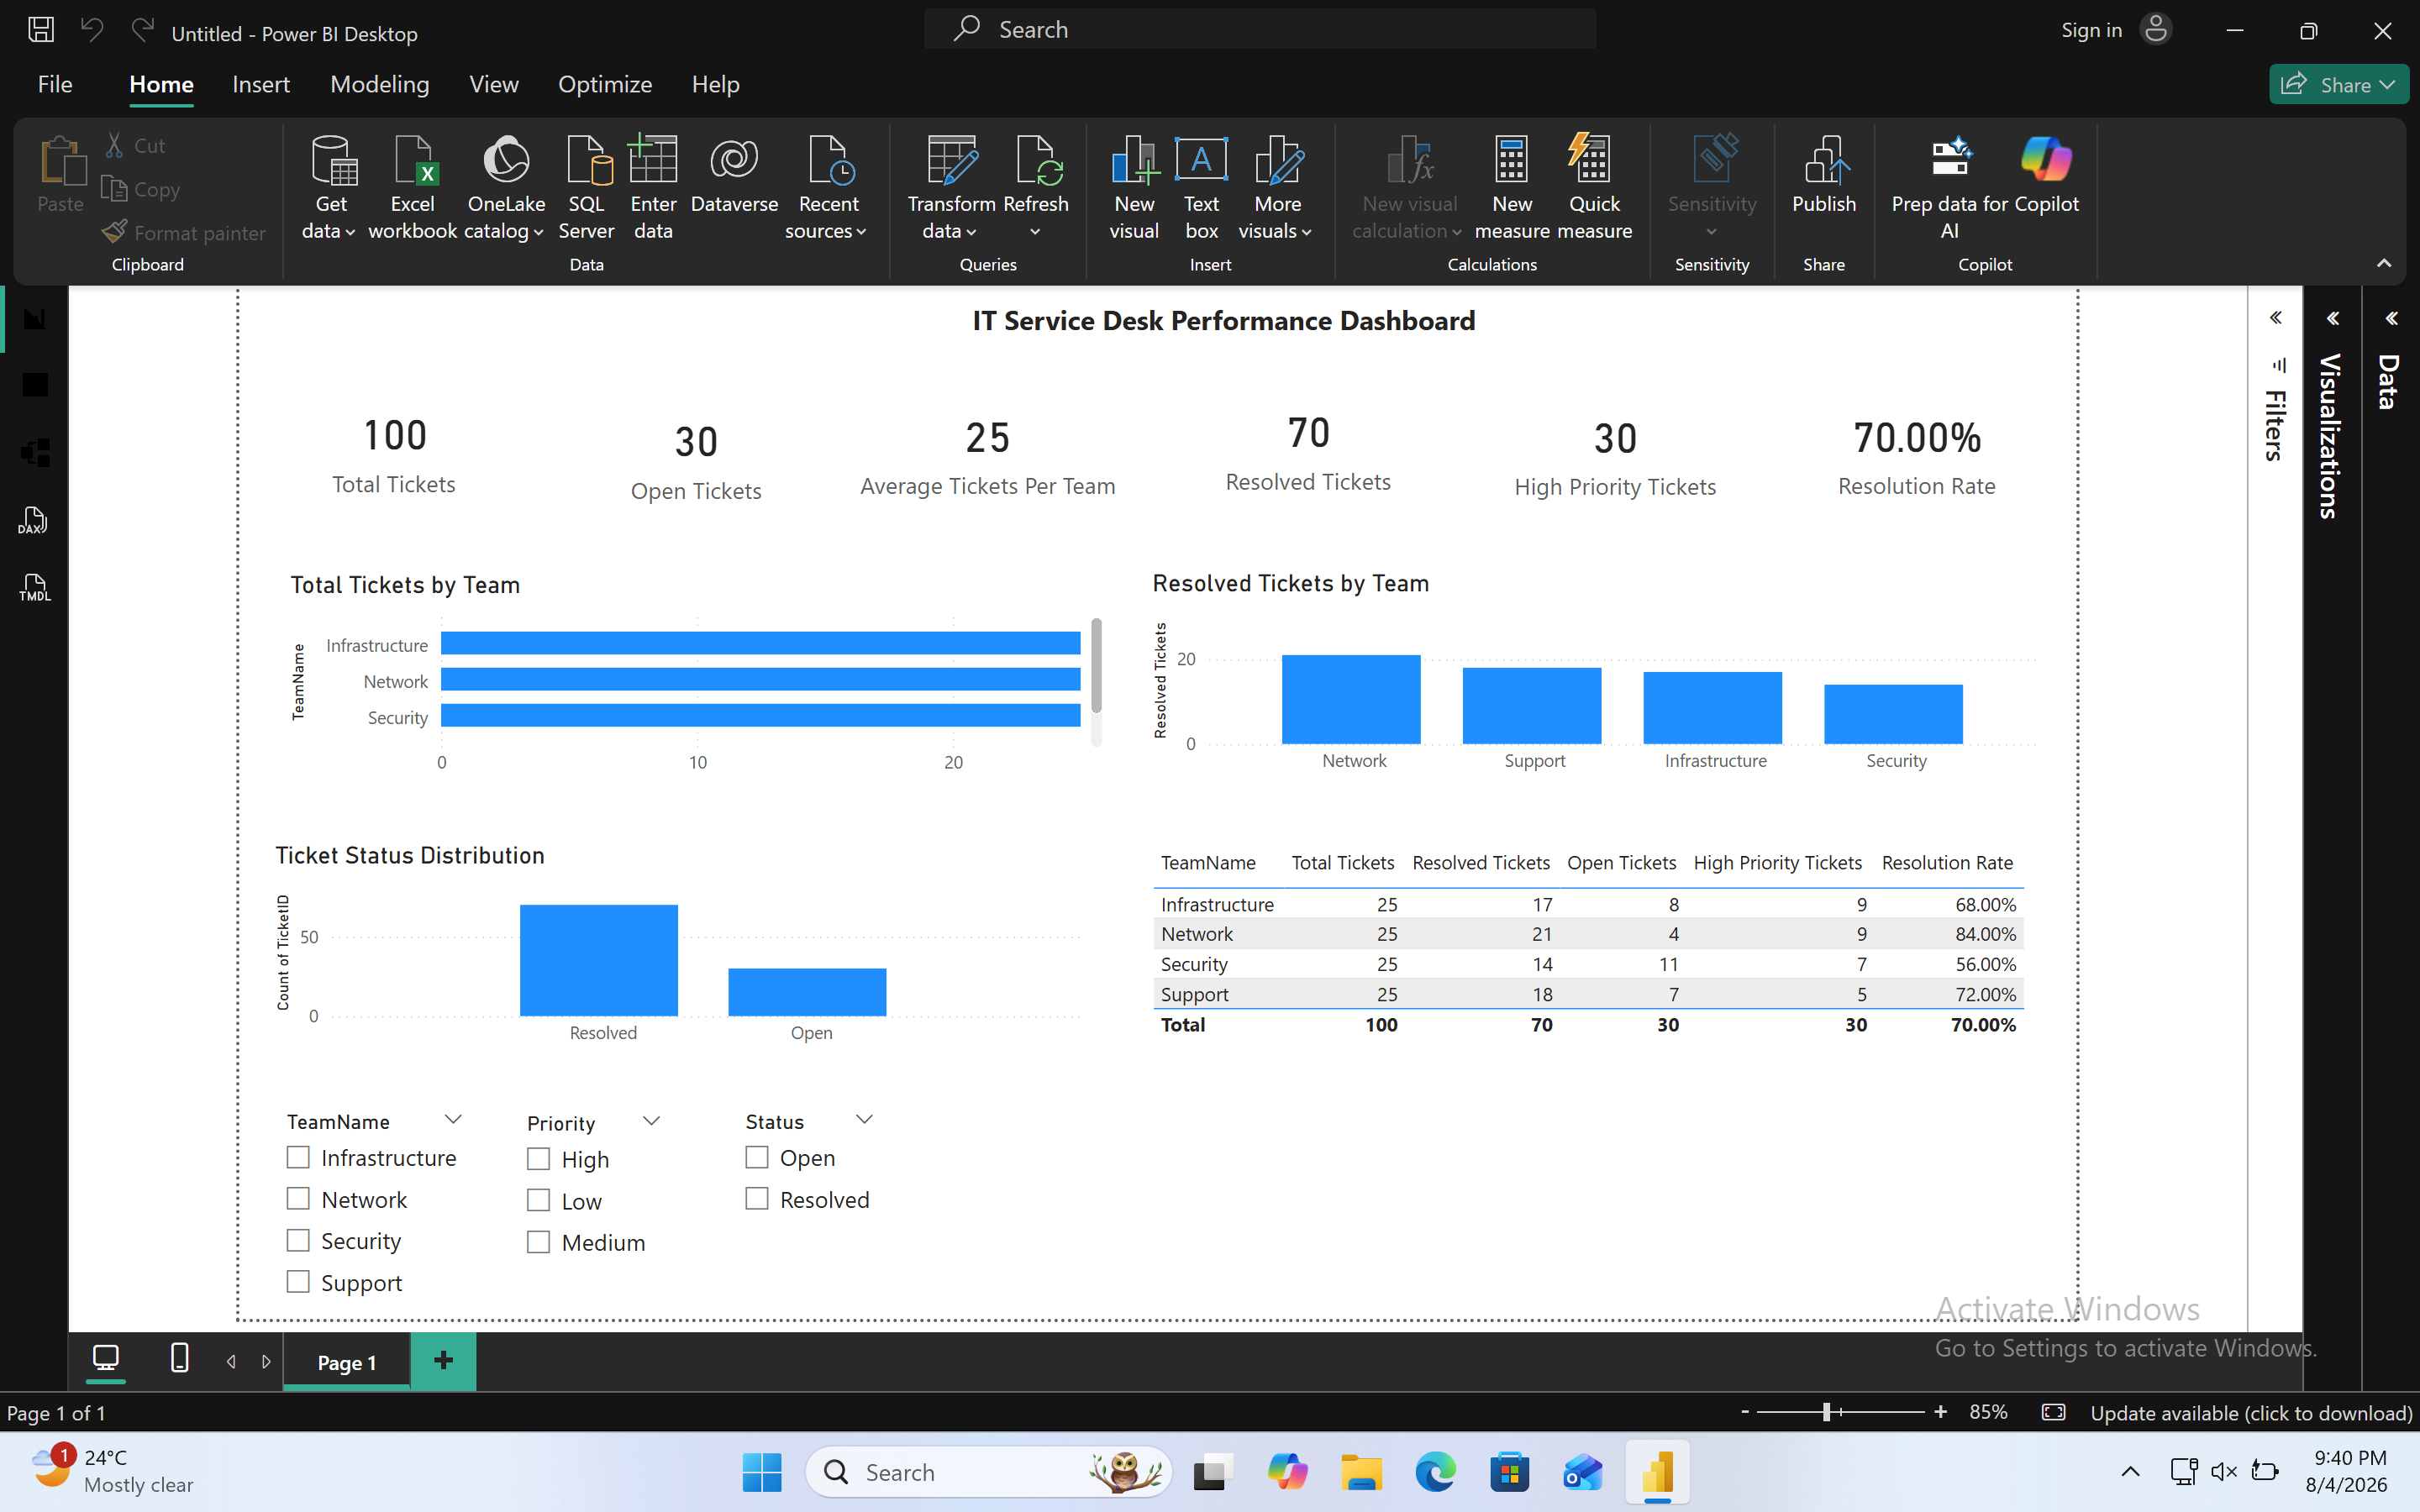

What the dashboard file says about the page in this screenshot:
{"tool":"powerbi","page":{"name":"Page 1","canvas":[1280,720],"ordinal":0},"visuals":[{"type":"card","fields":{"Values":["Tickets.High Priority Tickets"]},"box":[860.6,52.3,196.3,124.9],"z":0},{"type":"card","fields":{"Values":["Tickets.Resolution Rate"]},"box":[1056.9,52.3,223.1,123.7],"z":1},{"type":"card","fields":{"Values":["Tickets.Open Tickets"]},"box":[234.6,51,168.3,132.6],"z":2},{"type":"card","fields":{"Values":["Tickets.Resolved Tickets"]},"box":[628.5,47.2,232,128.8],"z":3},{"type":"card","fields":{"Values":["Tickets.Total Tickets"]},"box":[0,47.2,215.5,132.6],"z":4},{"type":"clusteredBarChart","title":"Total Tickets by Team","fields":{"Category":["Teams.TeamName"],"Y":["Tickets.Total Tickets"]},"box":[30.6,199,575.7,151.6],"z":5},{"type":"columnChart","title":"Ticket Status Distribution","fields":{"Category":["Tickets.Status"],"Y":["CountNonNull(Tickets.TicketID)"]},"box":[19.9,387.4,572.6,151.6],"z":6},{"type":"tableEx","fields":{"Values":["Teams.TeamName","Tickets.Total Tickets","Tickets.Resolved Tickets","Tickets.Open Tickets","Tickets.High Priority Tickets","Tickets.Resolution Rate"]},"box":[630.8,385.8,620.1,151.6],"z":7},{"type":"clusteredColumnChart","title":"Resolved Tickets by Team","fields":{"Category":["Teams.TeamName"],"Y":["Tickets.Resolved Tickets"]},"box":[630.8,197.5,629.3,151.6],"z":8},{"type":"slicer","fields":{"Values":["Teams.TeamName"]},"box":[20.4,568.6,147.9,150.4],"z":9},{"type":"slicer","fields":{"Values":["Tickets.Priority"]},"box":[187.4,569.9,118.6,150.4],"z":10},{"type":"slicer","fields":{"Values":["Tickets.Status"]},"box":[339.1,568.6,114.7,150.4],"z":11},{"type":"textbox","box":[505.3,6.1,367.5,35.2],"z":12},{"type":"card","fields":{"Values":["Tickets.Average Tickets Per Team"]},"box":[414.3,52.3,214.2,123.7],"z":13}]}

Visuals, with their boxes on the page's 1280x720 design canvas (x1, y1, x2, y2). These are canvas units, not pixel positions in the 2420x1512 screenshot, which may show the page scaled, cropped or inside an application window:
card - Tickets.High Priority Tickets: box(861, 52, 1057, 177)
card - Tickets.Resolution Rate: box(1057, 52, 1280, 176)
card - Tickets.Open Tickets: box(235, 51, 403, 184)
card - Tickets.Resolved Tickets: box(628, 47, 860, 176)
card - Tickets.Total Tickets: box(0, 47, 216, 180)
"Total Tickets by Team" clusteredBarChart: box(31, 199, 606, 351)
"Ticket Status Distribution" columnChart: box(20, 387, 592, 539)
tableEx - Teams.TeamName x Tickets.Total Tickets: box(631, 386, 1251, 537)
"Resolved Tickets by Team" clusteredColumnChart: box(631, 198, 1260, 349)
slicer - Teams.TeamName: box(20, 569, 168, 719)
slicer - Tickets.Priority: box(187, 570, 306, 720)
slicer - Tickets.Status: box(339, 569, 454, 719)
textbox: box(505, 6, 873, 41)
card - Tickets.Average Tickets Per Team: box(414, 52, 628, 176)
